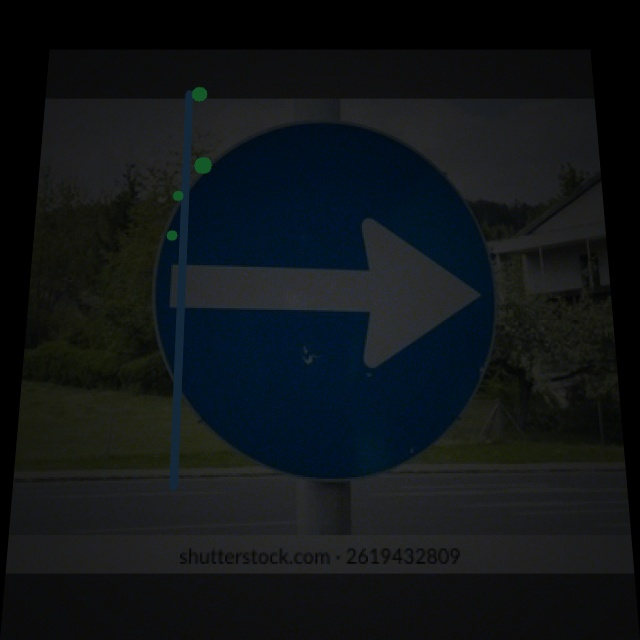Compulsory_Turn_Right: (142, 119, 505, 483)
